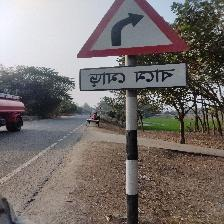Left-Turn: (76, 0, 191, 98)
